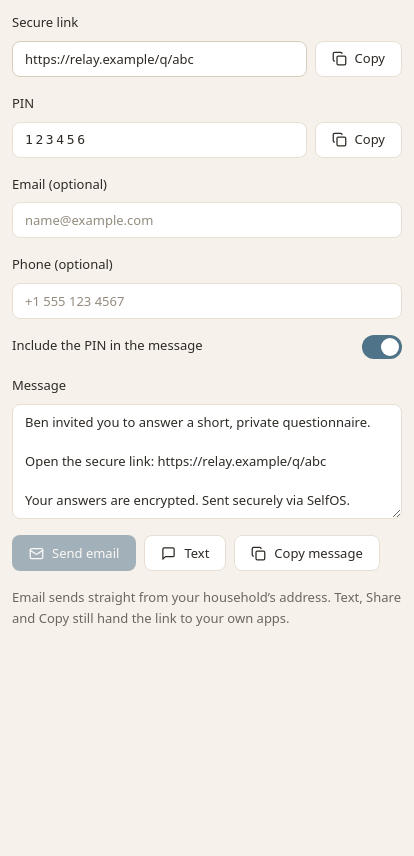
RelayLinkDelivery real Resend send (67 P1 / family A) › surfaces a calm warning + keeps Copy usable when the send fails
The width and height of the screenshot is (414, 856).
In the field labelled "Email (optional)": (207, 220) [12, 202, 402, 238], type "alex@example.com"
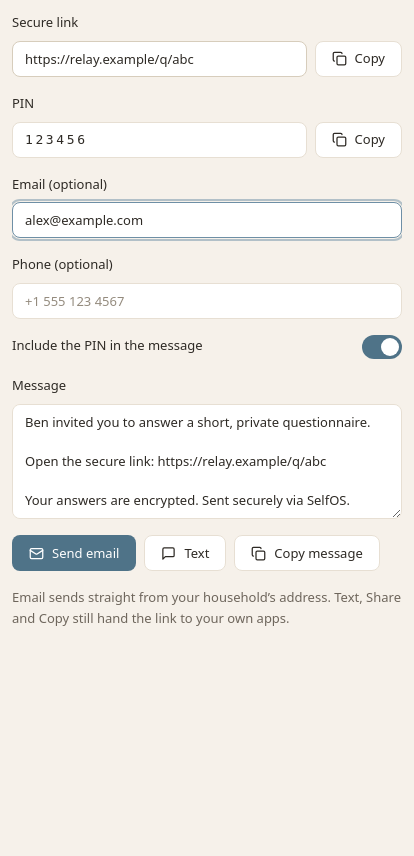
Click the button "Send email": (74, 554) [12, 536, 136, 572]
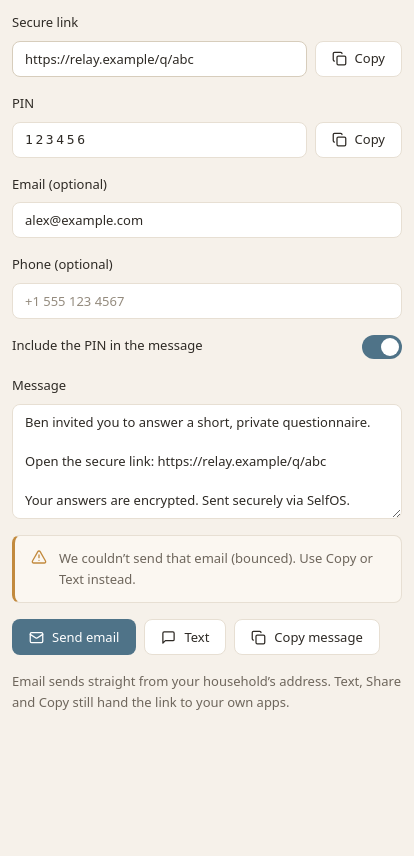
Expected: the button "Copy message" is enabled, [234, 619, 380, 655]
Now the text "couldn’t send that email (bounced)" is shown, box [59, 550, 373, 588]
